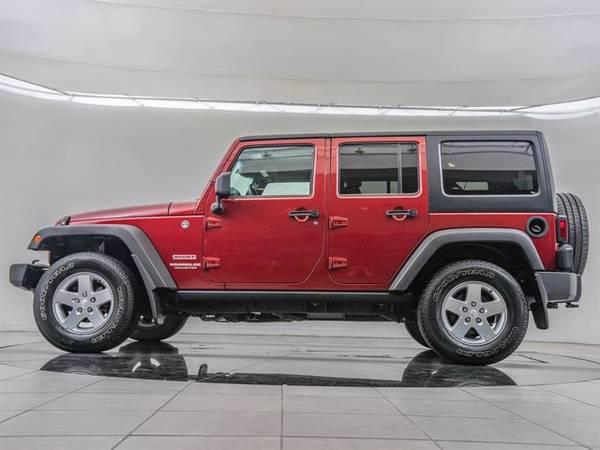Front_Bumper: (10, 263, 51, 290)
Front_Fender: (28, 214, 205, 295)
Front_Left_Door: (203, 198, 326, 292)
Front_Left_Window: (207, 143, 324, 199)
Hood: (59, 203, 194, 221)
Left_Taillight: (557, 214, 567, 246)
Rear_Bumper: (534, 270, 580, 320)
Rear_Fender: (389, 135, 556, 288)
Rear_Left_Door: (324, 196, 427, 291)
Rear_Left_Window: (323, 140, 425, 195)
Roof: (196, 128, 557, 209)
Wheel: (414, 259, 529, 367), (31, 252, 138, 354), (556, 192, 590, 277)
